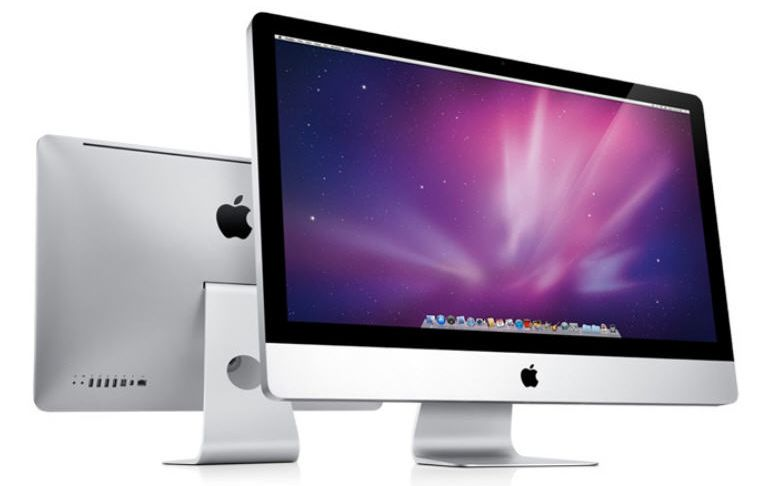Apple: (202, 190, 262, 246), (511, 356, 549, 395)
